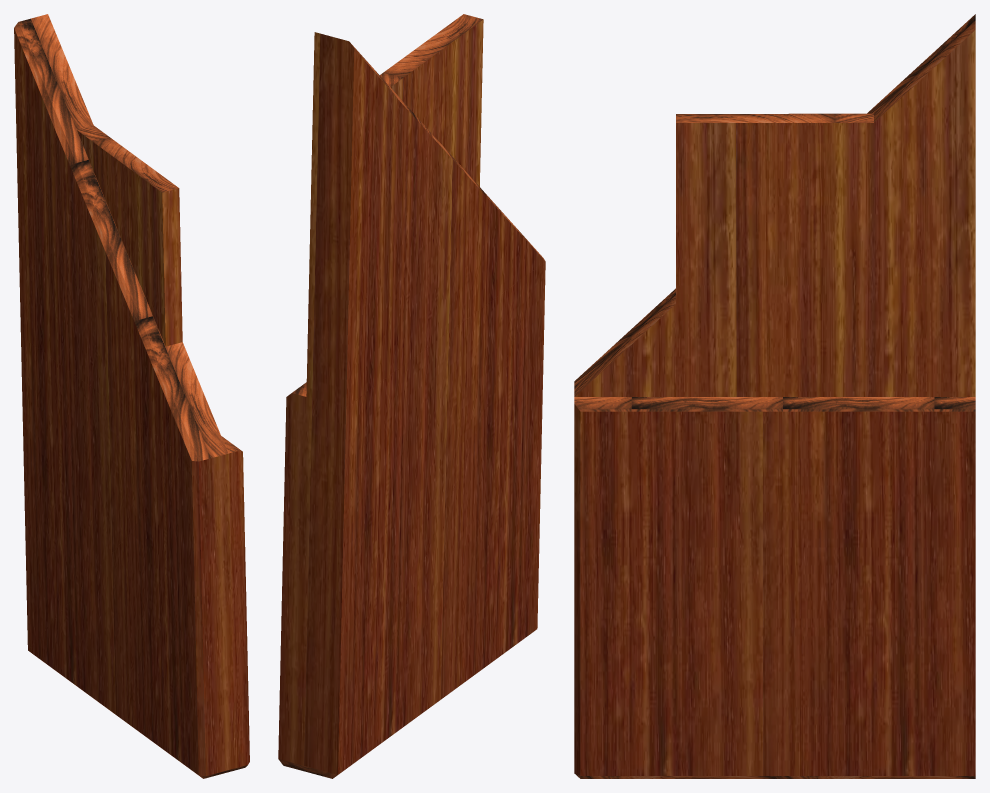
File: GMY_J_ceyatou_02_01.FBX
The picture shows the model from 3 angles, left to right: view 1: azimuth 30°, elevation 25°; view 2: azimuth 150°, elevation 25°; view 3: azimuth 270°, elevation 25°; orthographic projection. The views are drawn at different scales.
Parts seen in each view (by area): view 1: GMY_J_ceyatou_02_01; view 2: GMY_J_ceyatou_02_01; view 3: GMY_J_ceyatou_02_01.
Boxes of the visible parts, left/top/right/bottom form: GMY_J_ceyatou_02_01: left=14, top=14, right=249, bottom=778; GMY_J_ceyatou_02_01: left=278, top=14, right=545, bottom=778; GMY_J_ceyatou_02_01: left=574, top=14, right=975, bottom=778.
Bounding box in the file's own units: 1.02 × 9.51 × 4.7.
